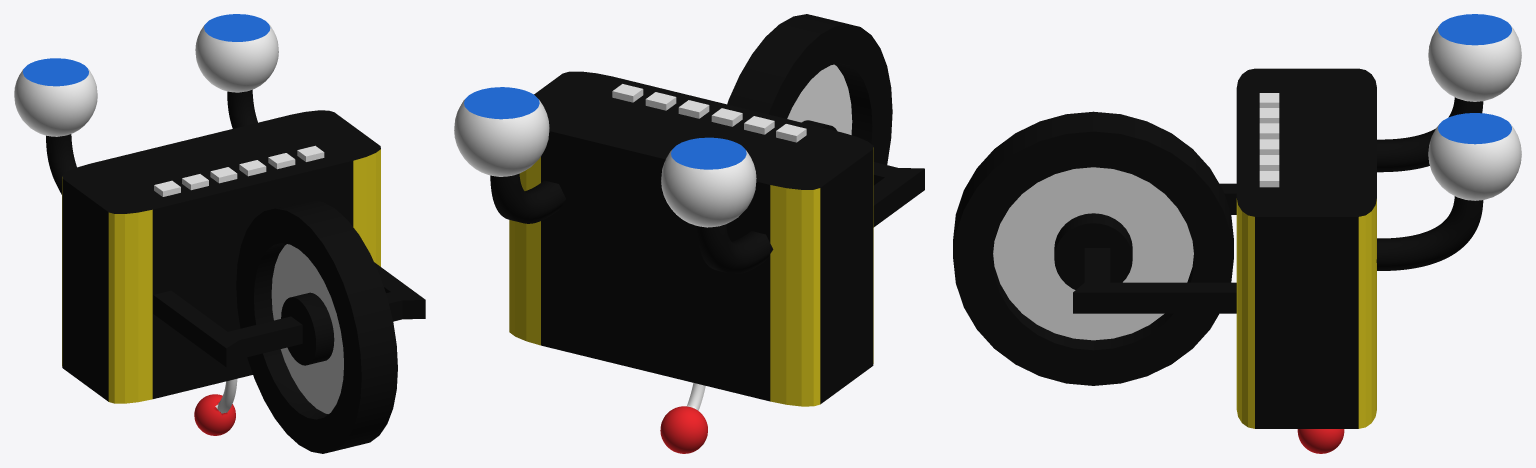
The model's file is StandAndFollow.fbx.
3 views of the same model, side by side, from view 1: azimuth 30°, elevation 25°; view 2: azimuth 150°, elevation 25°; view 3: azimuth 270°, elevation 25° (orthographic). The views are drawn at different scales.
Visible parts, largest first — view 1: Body, Tyre, Tyre_Support, LEye_Ball, REye_Ball, Tail, REye_Pipe, LEye_Pipe; view 2: Body, Tyre, LEye_Ball, REye_Ball, REye_Pipe, LEye_Pipe, Tyre_Support, Tail; view 3: Tyre, Body, LEye_Ball, REye_Ball, Tyre_Support, LEye_Pipe, REye_Pipe, Tail.
Part boxes in pixels (x1,y1,x2,y2): Body: (62, 110, 380, 403); Tyre: (236, 199, 397, 453); Tyre_Support: (153, 262, 425, 367); LEye_Ball: (195, 14, 278, 92); REye_Ball: (14, 58, 97, 136); Tail: (194, 379, 237, 435); REye_Pipe: (46, 134, 76, 194); LEye_Pipe: (227, 89, 257, 128); Body: (509, 71, 873, 406); Tyre: (727, 14, 892, 164); LEye_Ball: (454, 87, 549, 176); REye_Ball: (661, 137, 756, 227); REye_Pipe: (697, 224, 773, 274); LEye_Pipe: (490, 173, 565, 223); Tyre_Support: (873, 162, 924, 227); Tail: (660, 383, 707, 453); Tyre: (953, 111, 1233, 385); Body: (1236, 68, 1376, 428); LEye_Ball: (1428, 113, 1521, 200); REye_Ball: (1428, 14, 1521, 101); Tyre_Support: (1073, 183, 1236, 313); LEye_Pipe: (1376, 196, 1483, 270); REye_Pipe: (1377, 97, 1483, 172); Tail: (1297, 429, 1344, 453).
Bounding box in the file's own units: 150 × 176 × 243.
